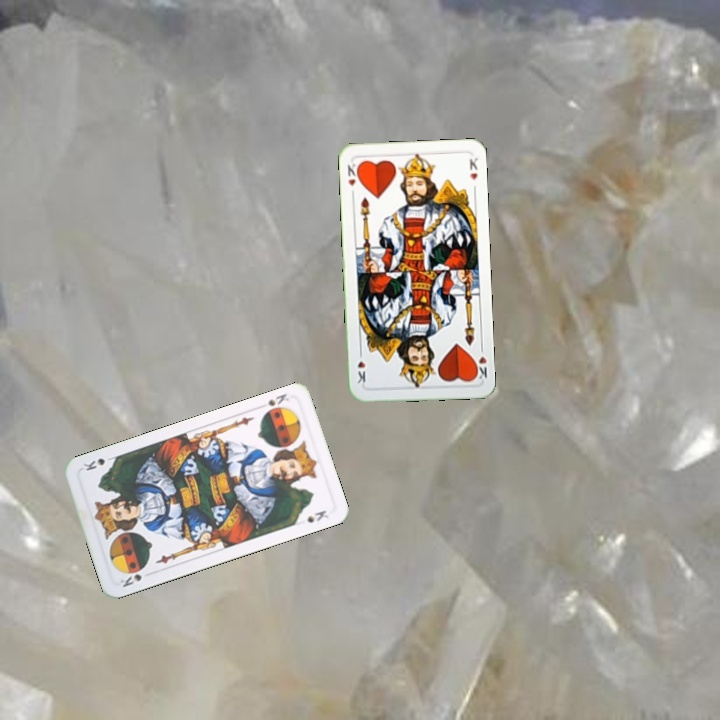HK: (470, 341, 490, 382), (343, 158, 362, 198)
SK: (259, 389, 292, 417), (116, 565, 146, 590)
